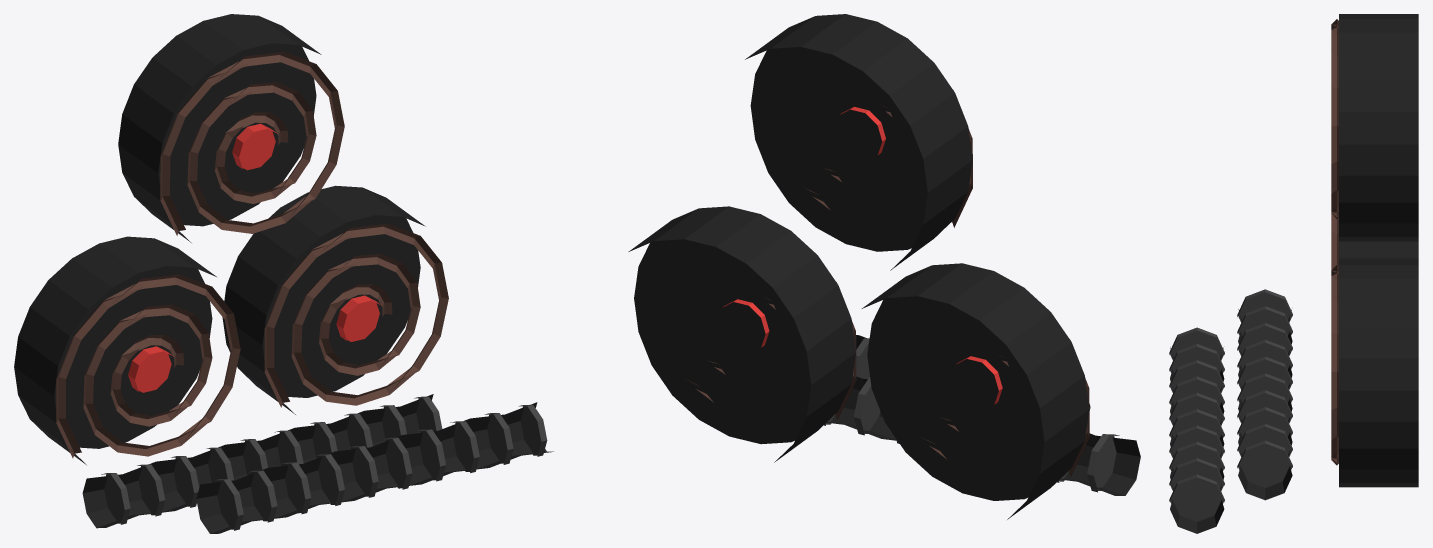
The model's file is lakrits.glb.
The picture shows the model from 3 angles, left to right: view 1: azimuth 30°, elevation 25°; view 2: azimuth 150°, elevation 25°; view 3: azimuth 270°, elevation 25°; orthographic projection. The views are drawn at different scales.
Parts seen in each view (by area): view 1: lakrits; view 2: lakrits; view 3: lakrits.
Boxes of the visible parts, bbox=[...] form: lakrits: bbox=[14, 14, 553, 533]; lakrits: bbox=[628, 14, 1140, 519]; lakrits: bbox=[1169, 14, 1418, 533].
Bounding box in the file's own units: 0.425 × 0.3915 × 0.2195.
